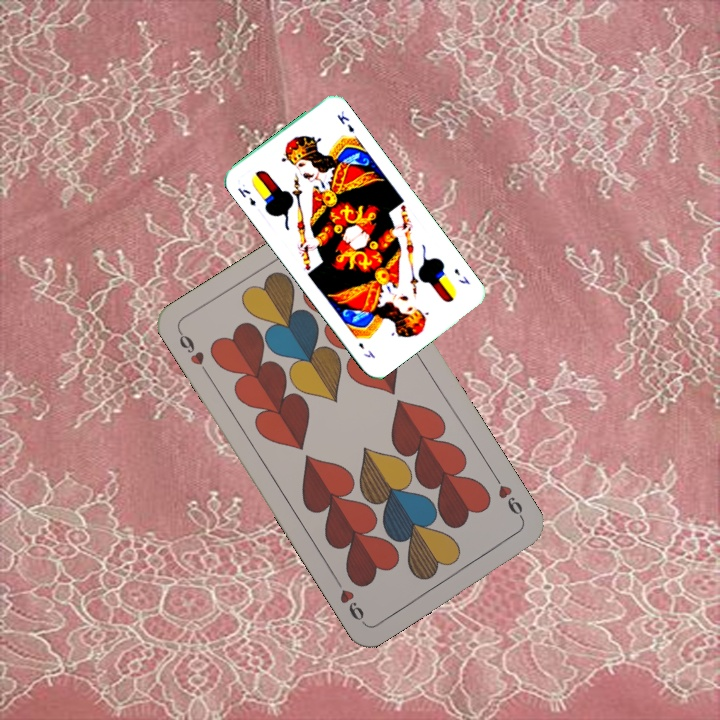EK: (234, 184, 258, 209), (450, 264, 472, 287)
H9: (174, 327, 213, 379), (489, 471, 527, 524)
